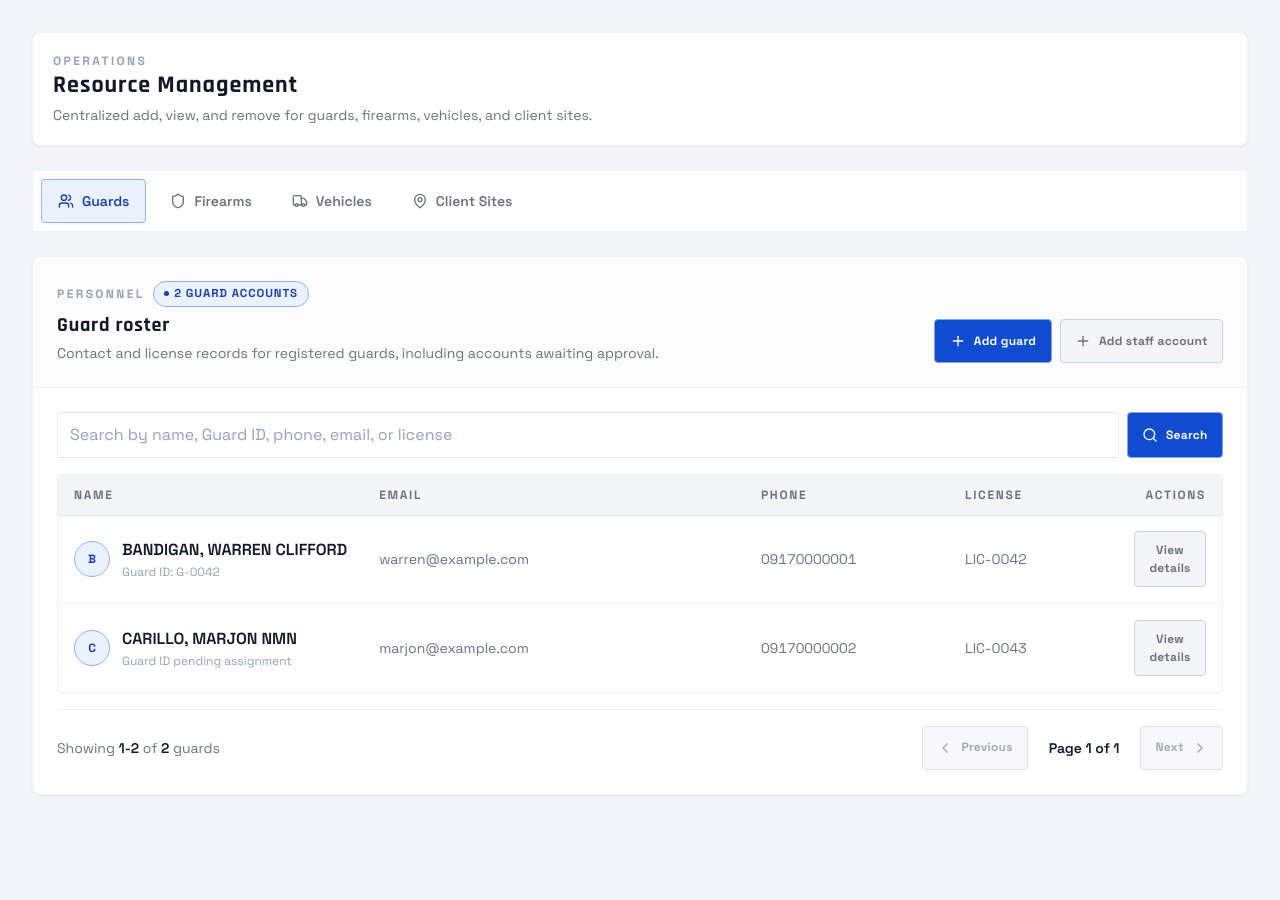
ResourceManagementPanel guard IDs › keeps guard actions in the details dialog and restores focus after Escape
Expected: the button "Remove guard" is not shown
Click the button with aria-label "View details for BANDIGAN".
click(1170, 559)  # box left=1134, top=531, right=1206, bottom=587
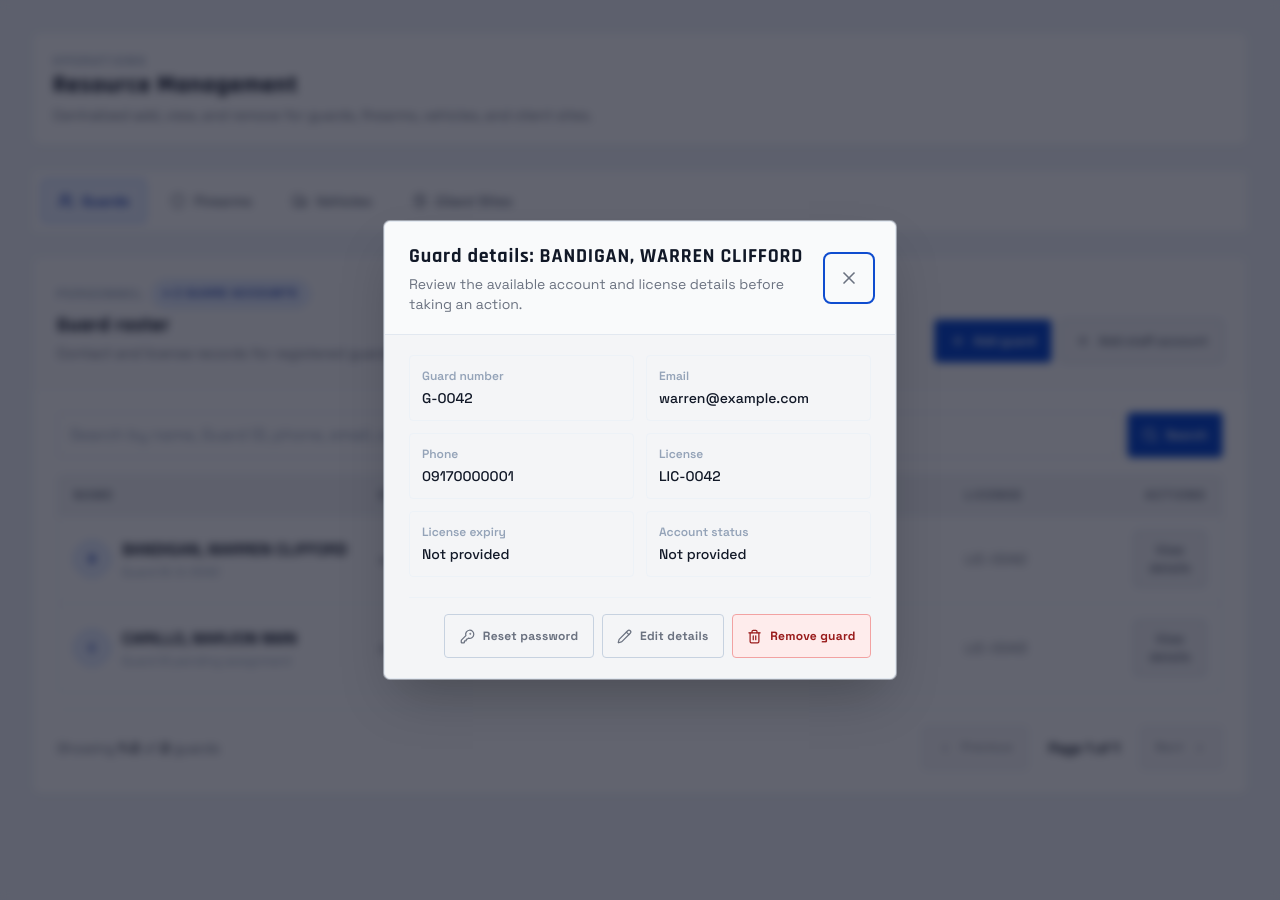
Result: the dialog "Guard details: BANDIGAN" is shown at left=384, top=221, right=896, bottom=679
Result: the text "G-0042" is shown at left=422, top=389, right=473, bottom=407
Result: the text "warren@example.com" is shown at left=659, top=389, right=809, bottom=407
Press Escape
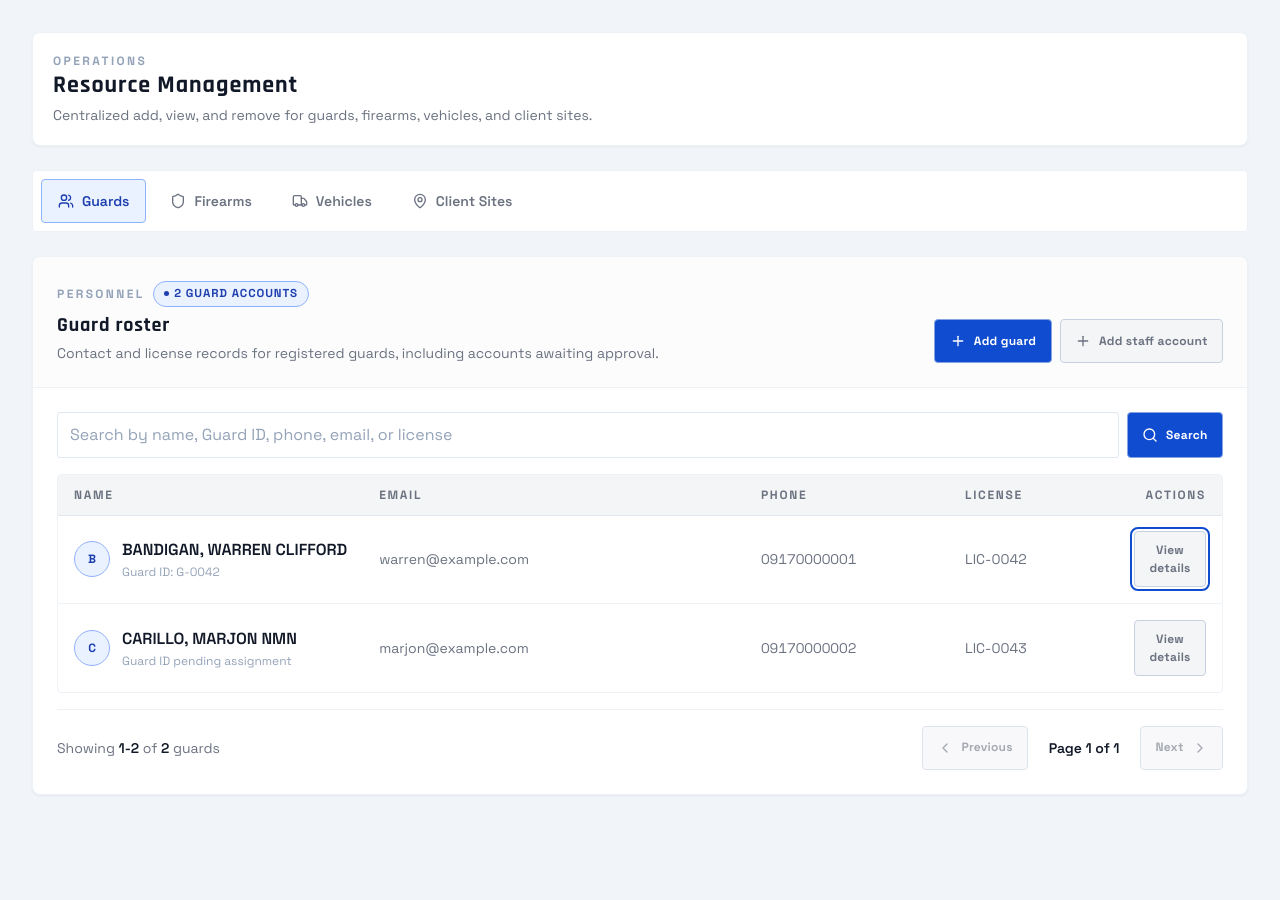
Result: the heading "Guard details" is gone
